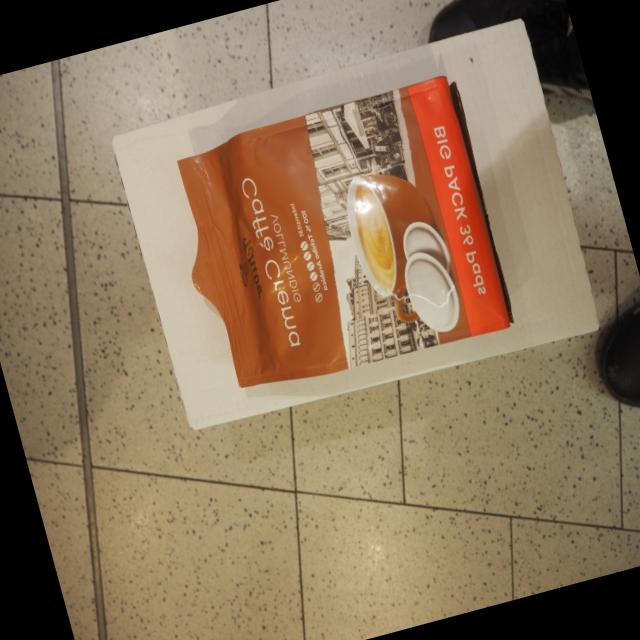CC Vollmundig: (150, 63, 526, 410)
